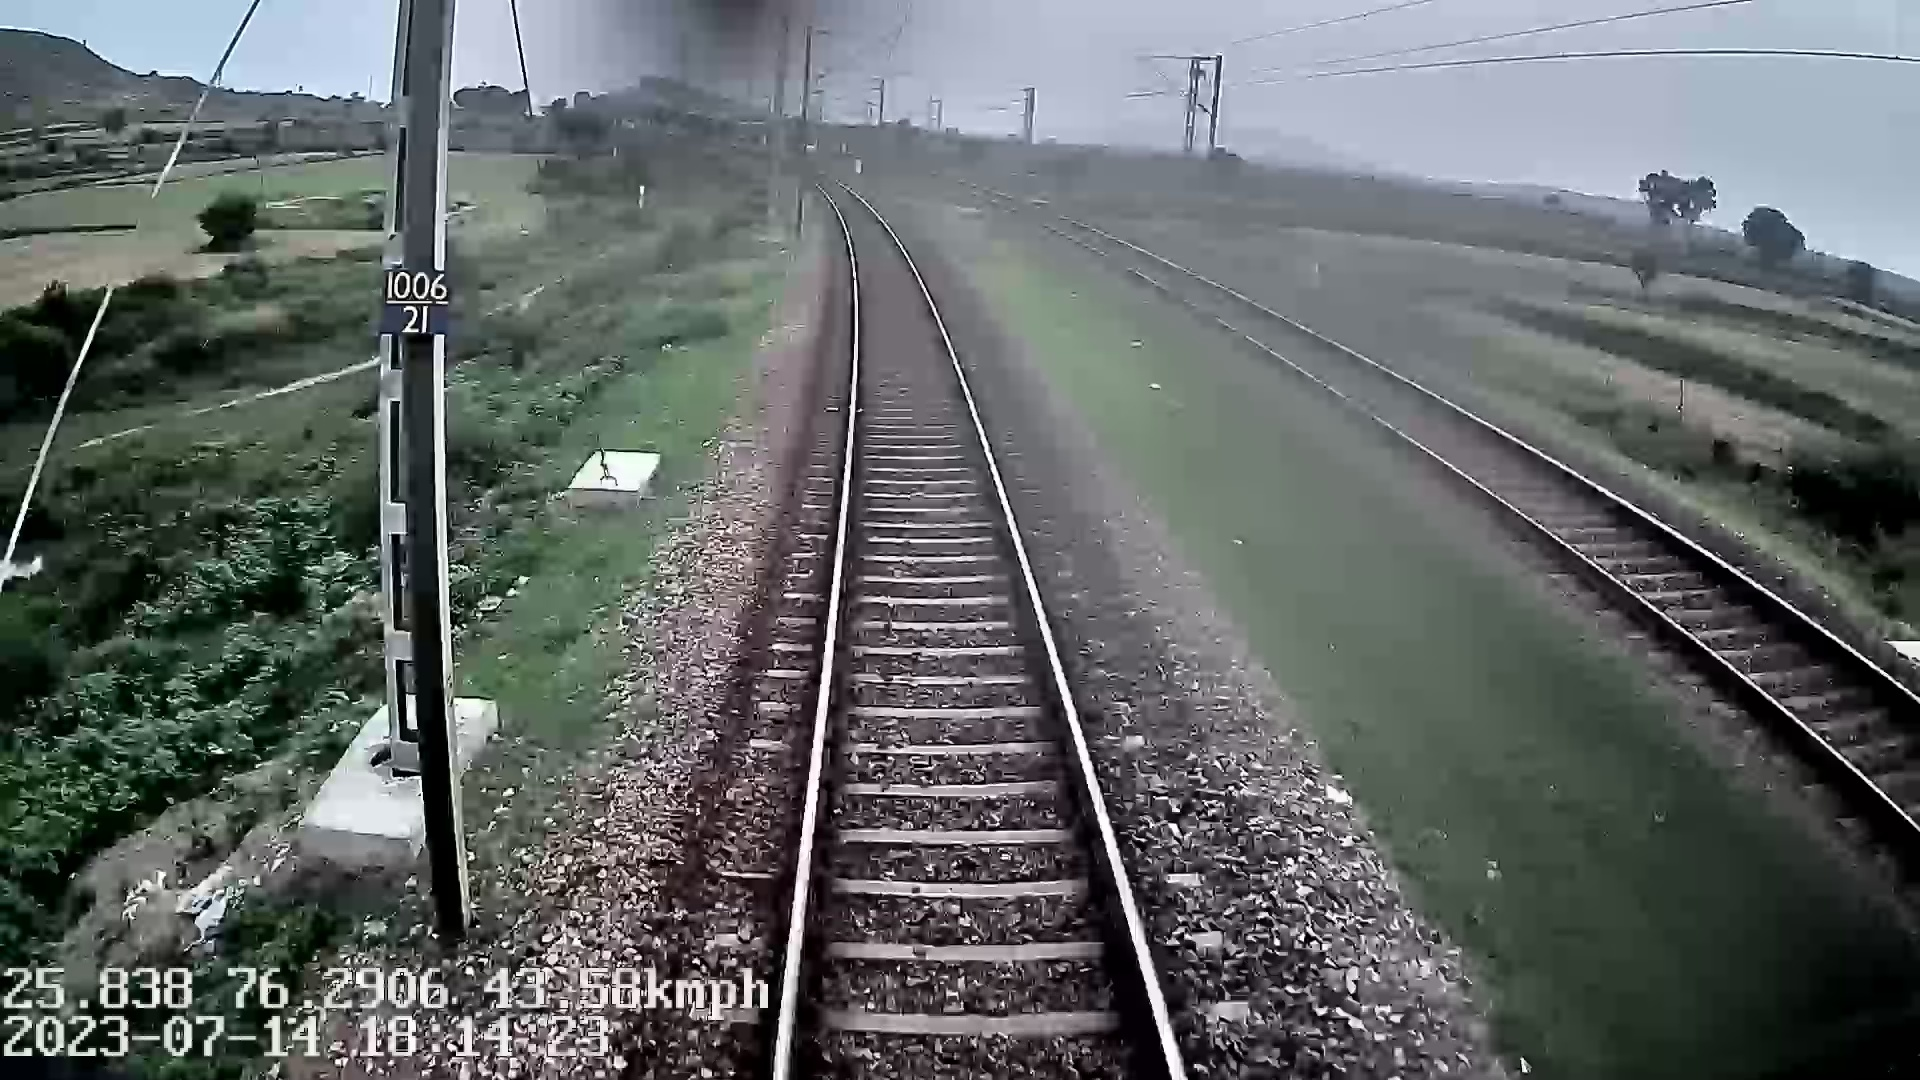track1: (782, 195, 1166, 1051)
track2: (1050, 224, 1884, 733)
